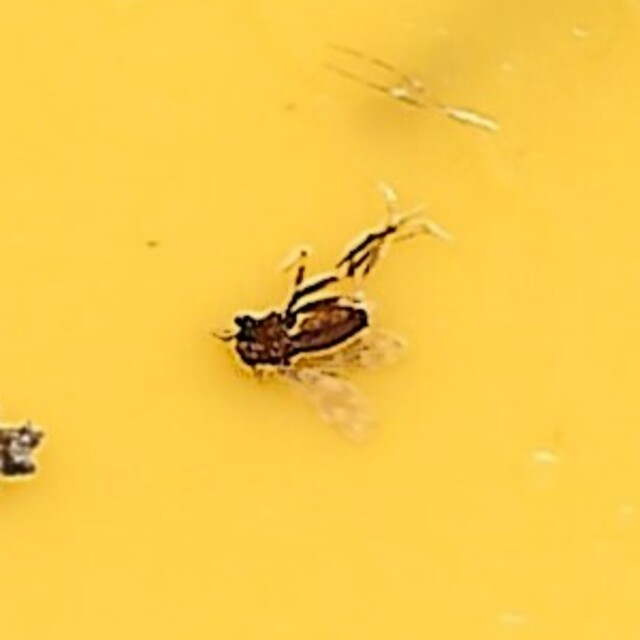Nematocera: (213, 215, 427, 425)
